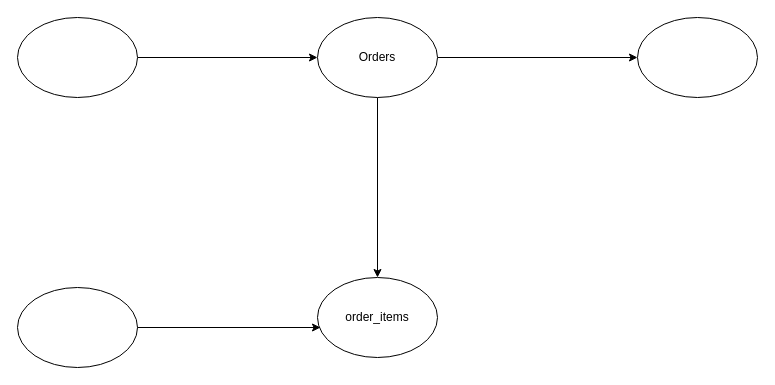
Image size: 775x385. Some labels were removed from this diagram. Here are the shapes that lost their labels. From the top down, the centre of each, then its label:
At (x=77, y=57): "Customers".
At (x=697, y=57): "refresh_logs".
